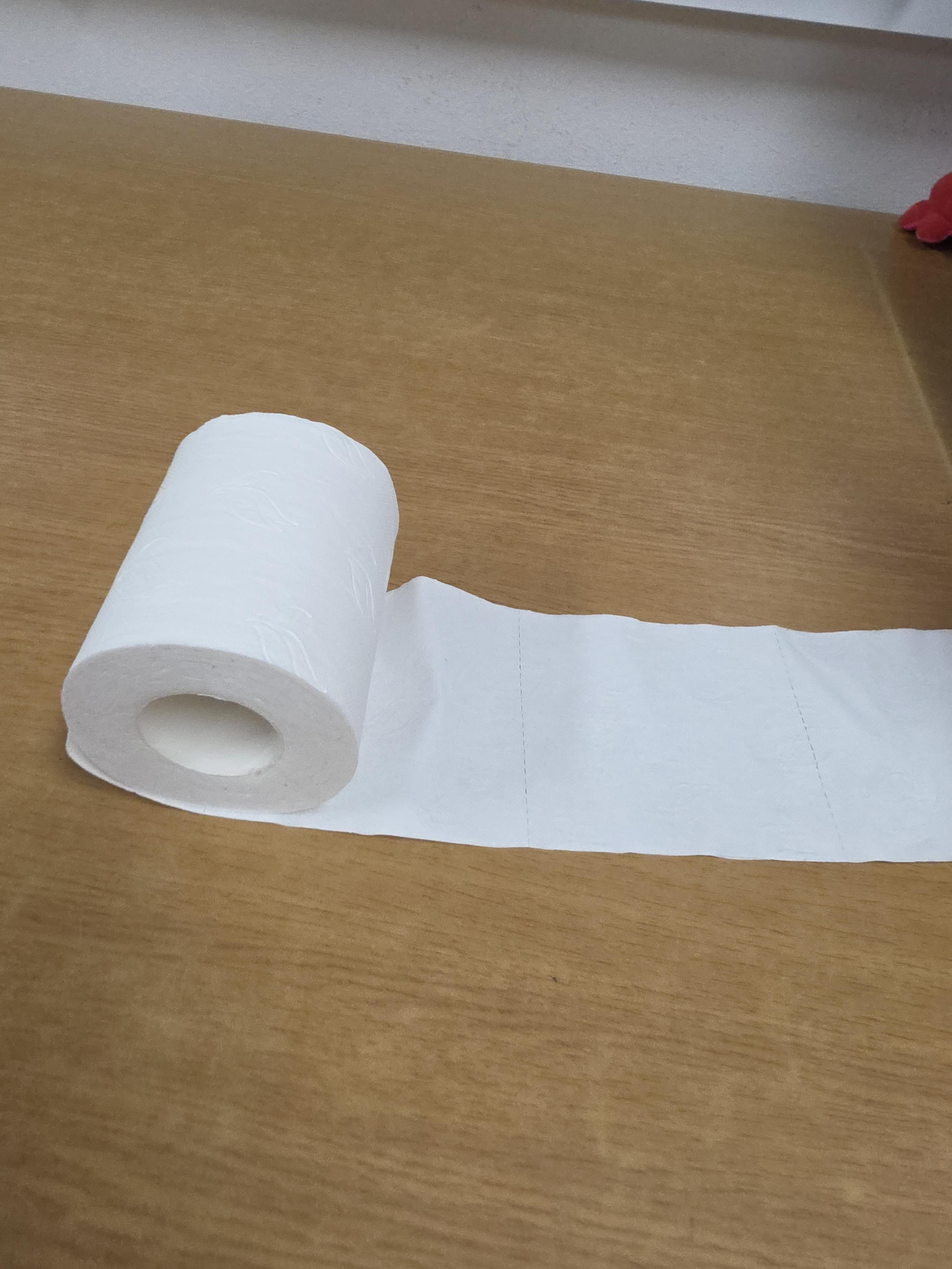tissue: (61, 411, 951, 865)
